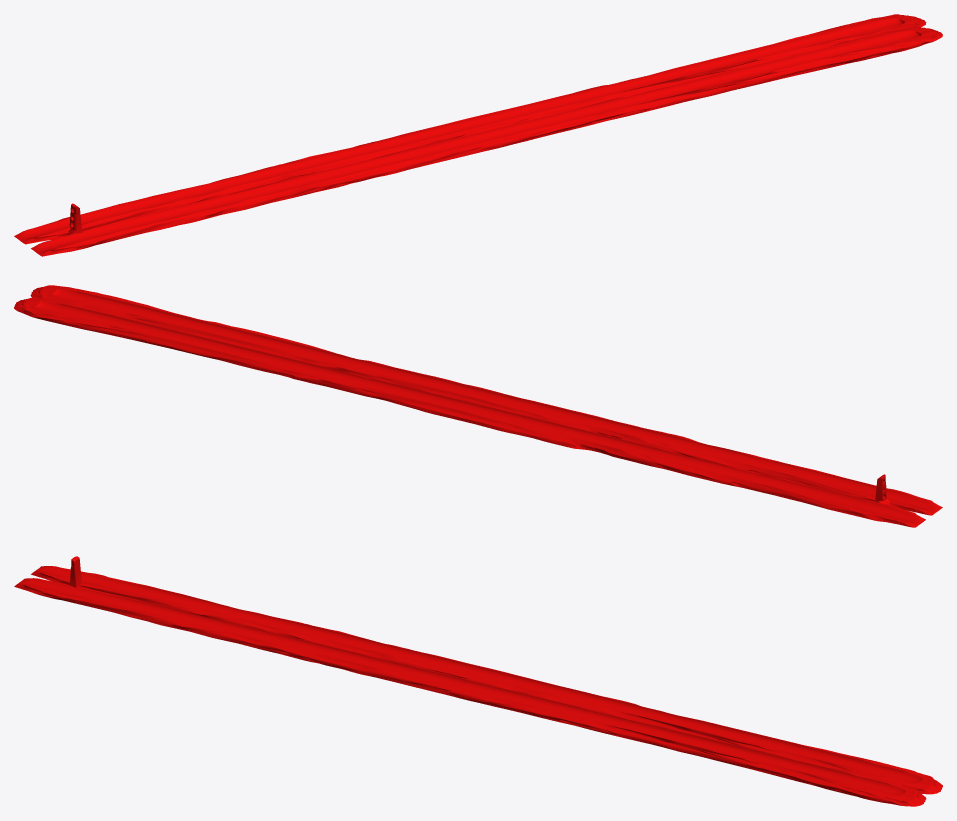
Rendered from Extras_RaceTrack_01.glb.
3 views of the same model, one above another, from view 1: azimuth 30°, elevation 25°; view 2: azimuth 150°, elevation 25°; view 3: azimuth 330°, elevation 25° (orthographic).
Parts seen in each view (by area): view 1: Asset_RaceTrack; view 2: Asset_RaceTrack; view 3: Asset_RaceTrack.
Boxes of the visible parts, x1,y1,x2,y2 form: Asset_RaceTrack: (14, 14, 942, 256); Asset_RaceTrack: (14, 285, 942, 527); Asset_RaceTrack: (14, 556, 942, 806).
Bounding box in the file's own units: 89.73 × 2.84 × 6.61.
